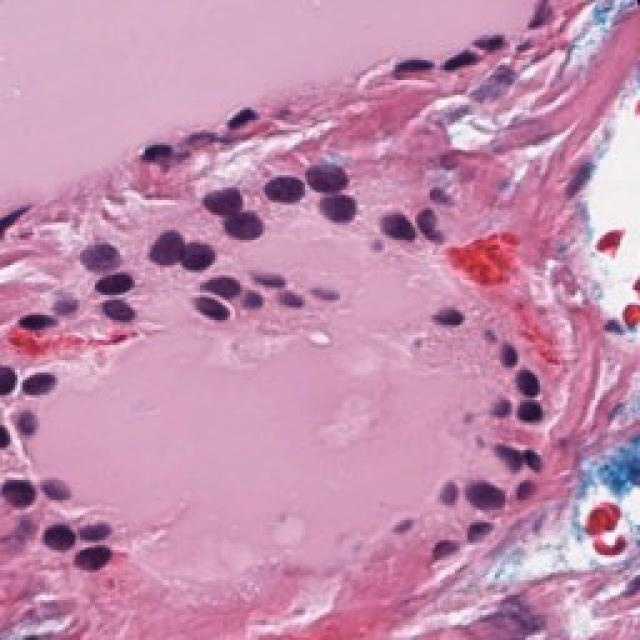normal: (295, 144, 358, 208), (60, 235, 130, 288), (8, 297, 77, 347), (137, 222, 198, 278), (255, 160, 313, 218), (64, 532, 124, 588), (7, 355, 63, 412), (170, 235, 233, 285), (503, 385, 558, 442), (225, 200, 282, 248), (30, 518, 85, 567), (201, 170, 251, 223), (492, 363, 552, 402), (0, 471, 44, 518), (92, 268, 148, 302), (93, 295, 140, 335)
